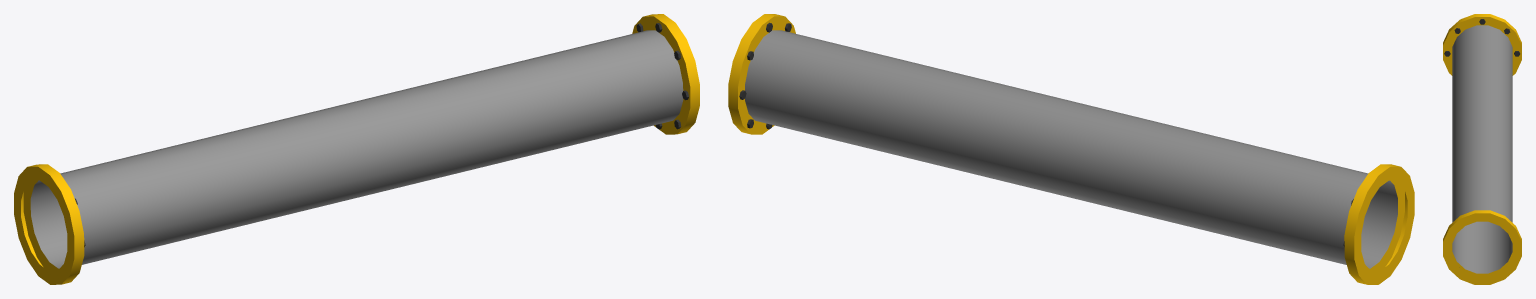
The model's file is pipe long.fbx.
The picture shows the model from 3 angles, left to right: view 1: azimuth 30°, elevation 25°; view 2: azimuth 150°, elevation 25°; view 3: azimuth 270°, elevation 25°; orthographic projection. The views are drawn at different scales.
Visible parts, largest first — view 1: Long_Pipe; view 2: Long_Pipe; view 3: Long_Pipe.
Part boxes in pixels (x1=…): Long_Pipe: x1=14, y1=14, x2=699, y2=284; Long_Pipe: x1=728, y1=14, x2=1414, y2=284; Long_Pipe: x1=1443, y1=14, x2=1521, y2=284.
Size of the model in its own units: 193 by 32.28 by 32.28.
